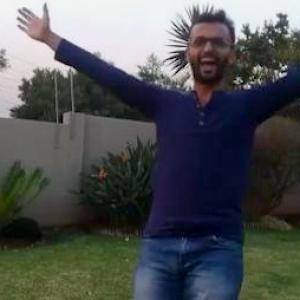takeoff: (20, 9, 299, 299)
